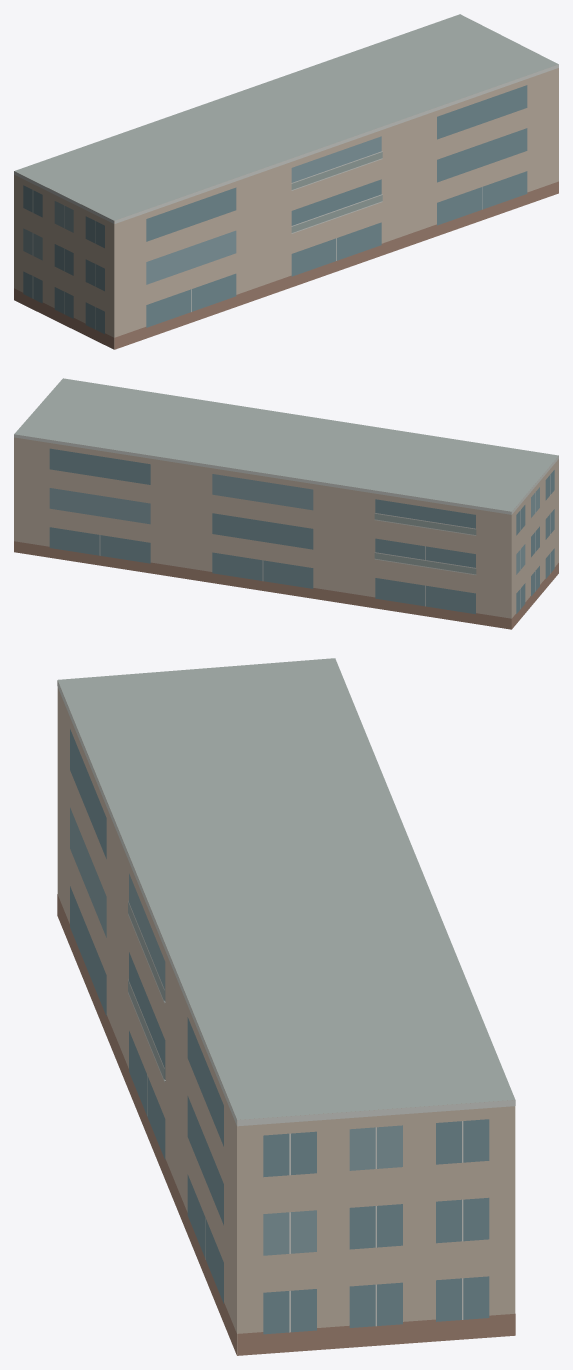
Rendered from survey-upis-32753542.glb.
3 renders of one model, top to bottom at view 1: azimuth 30°, elevation 25°; view 2: azimuth 150°, elevation 25°; view 3: azimuth 270°, elevation 25°, orthographic. The views are drawn at different scales.
Visible parts, largest first — view 1: survey-upis-32753542.tmp; view 2: survey-upis-32753542.tmp; view 3: survey-upis-32753542.tmp.
Boxes of the visible parts, x1,y1,x2,y2 form: survey-upis-32753542.tmp: (14,14,558,349); survey-upis-32753542.tmp: (14,378,558,629); survey-upis-32753542.tmp: (57,658,515,1355).
Bounding box in the file's own units: 38.45 × 9.15 × 16.12.
